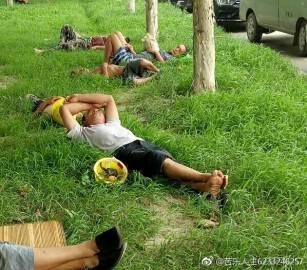falling: (55, 21, 113, 54)
